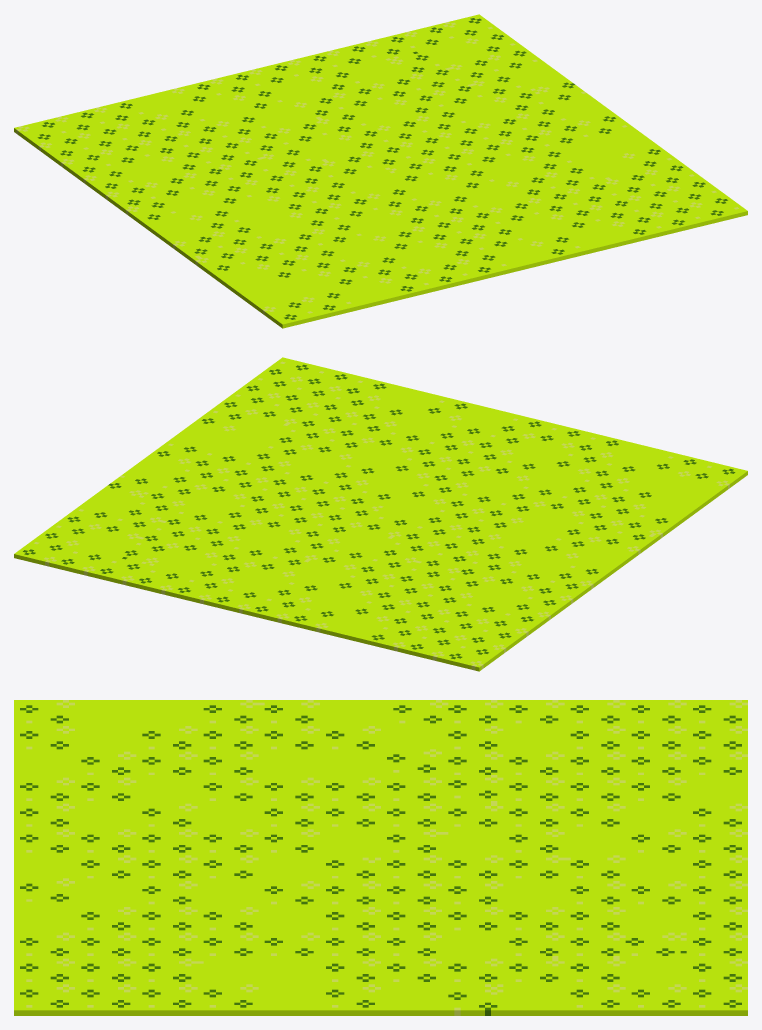
Rendered from BigGrass.obj.
The picture shows the model from 3 angles, top to bottom: view 1: azimuth 30°, elevation 25°; view 2: azimuth 150°, elevation 25°; view 3: azimuth 270°, elevation 25°; orthographic projection. The views are drawn at different scales.
Size of the model in its own units: 120 by 1 by 120.
